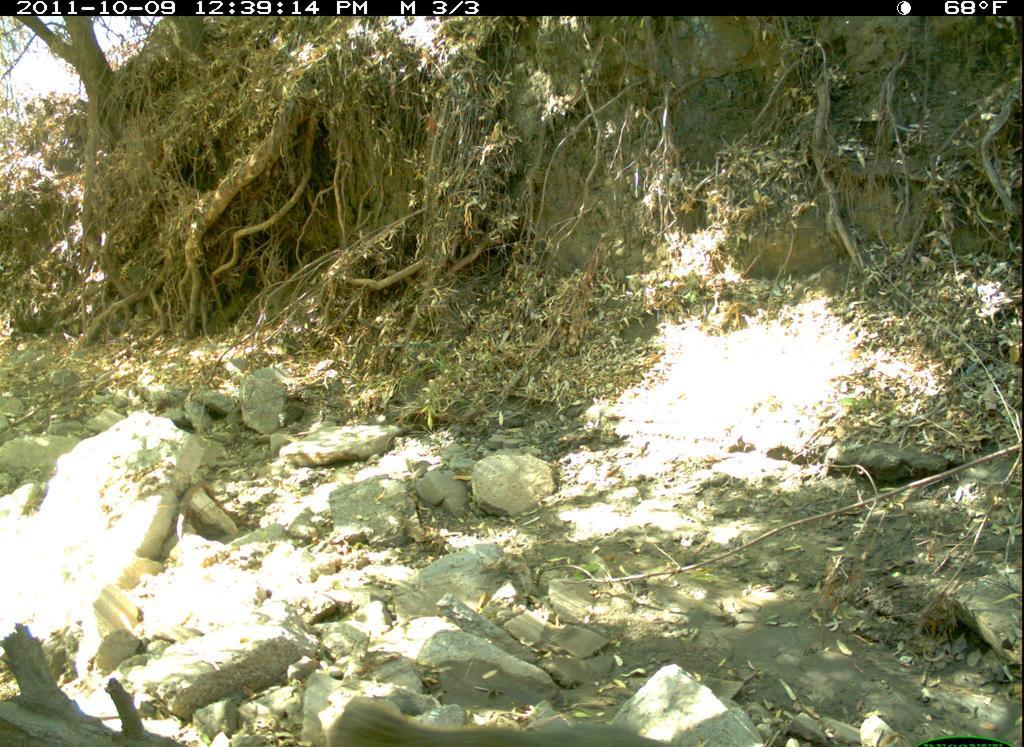squirrel: (326, 697, 685, 747)
